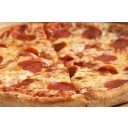pepperonipizza: (1, 23, 127, 105)
